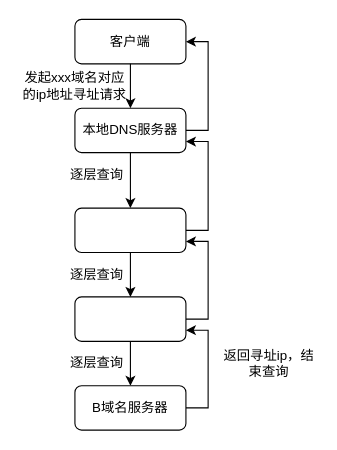
The diagram is 337 pixels wide and 450 high, and some of its shapes have lost their labels. The shapes that lost their labels are listed below. From the top down, each one's centre as x and y in pixels, then its label:
point 130,230: 根域名服务器
point 130,318: 顶级域名服务器
